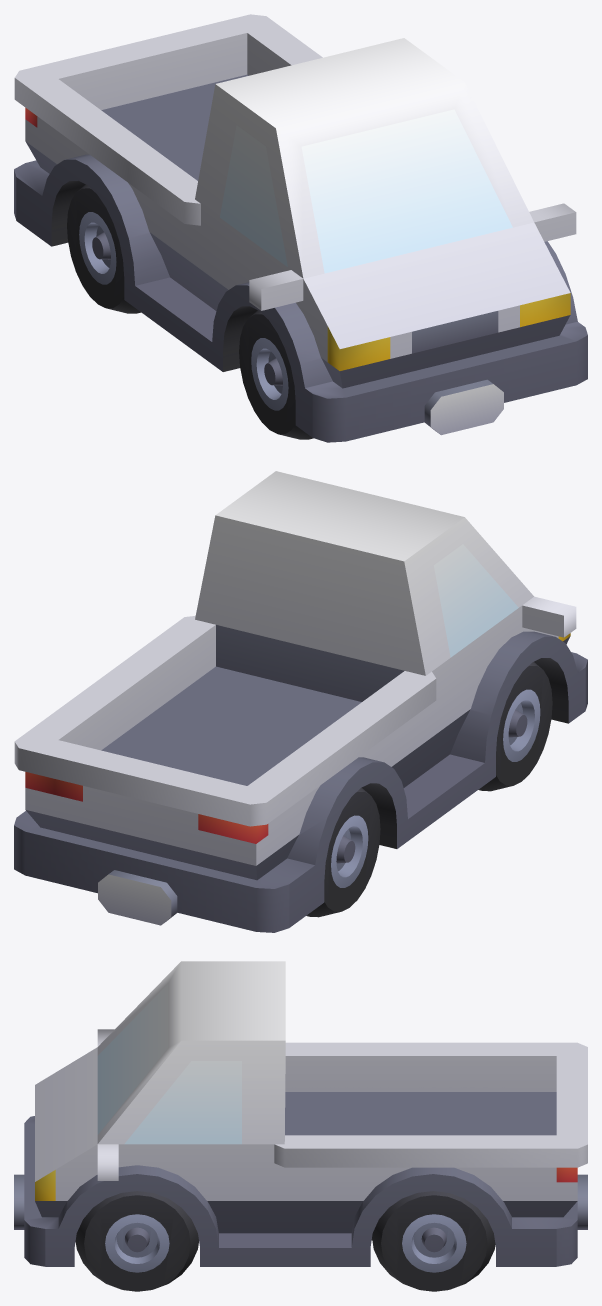
File: truck-flat.glb
3 views of the same model, one above another, from view 1: azimuth 30°, elevation 25°; view 2: azimuth 150°, elevation 25°; view 3: azimuth 270°, elevation 25° (orthographic). The views are drawn at different scales.
Visible parts, largest first — view 1: body, wheel-back-right, wheel-front-right; view 2: body, wheel-front-right, wheel-back-right; view 3: body, wheel-front-left, wheel-back-left.
Boxes of the visible parts, x1,y1,x2,y2 form: body: (14, 14, 587, 442); wheel-back-right: (67, 184, 140, 313); wheel-front-right: (239, 310, 313, 439); body: (14, 471, 587, 932); wheel-front-right: (478, 662, 552, 791); wheel-back-right: (306, 787, 380, 917); body: (14, 961, 587, 1266); wheel-front-left: (75, 1191, 198, 1291); wheel-back-left: (372, 1191, 495, 1291).
Bounding box in the file's own units: 1.5 × 1.3 × 2.75.
1 material, 1 textured.
